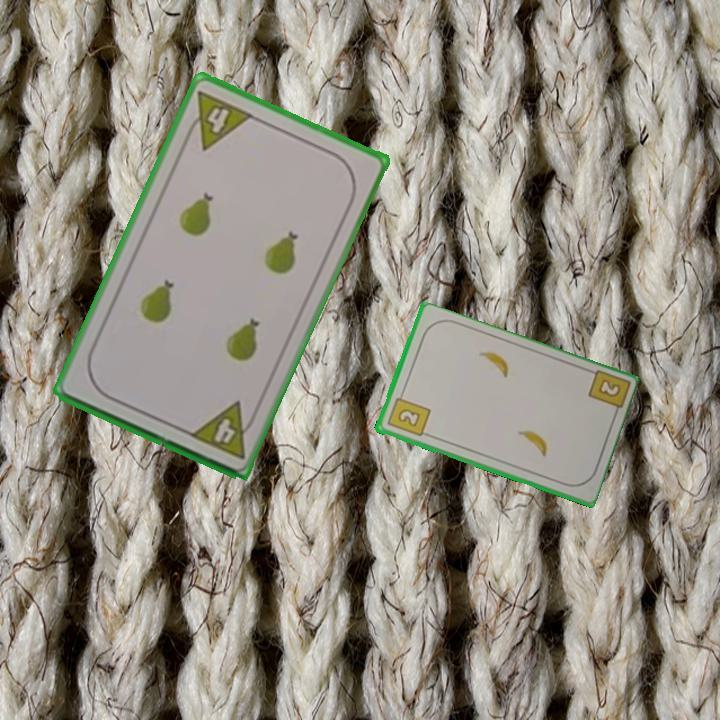2b: (383, 389, 432, 439), (594, 375, 623, 400)
4p: (180, 86, 256, 153), (185, 398, 260, 462)
